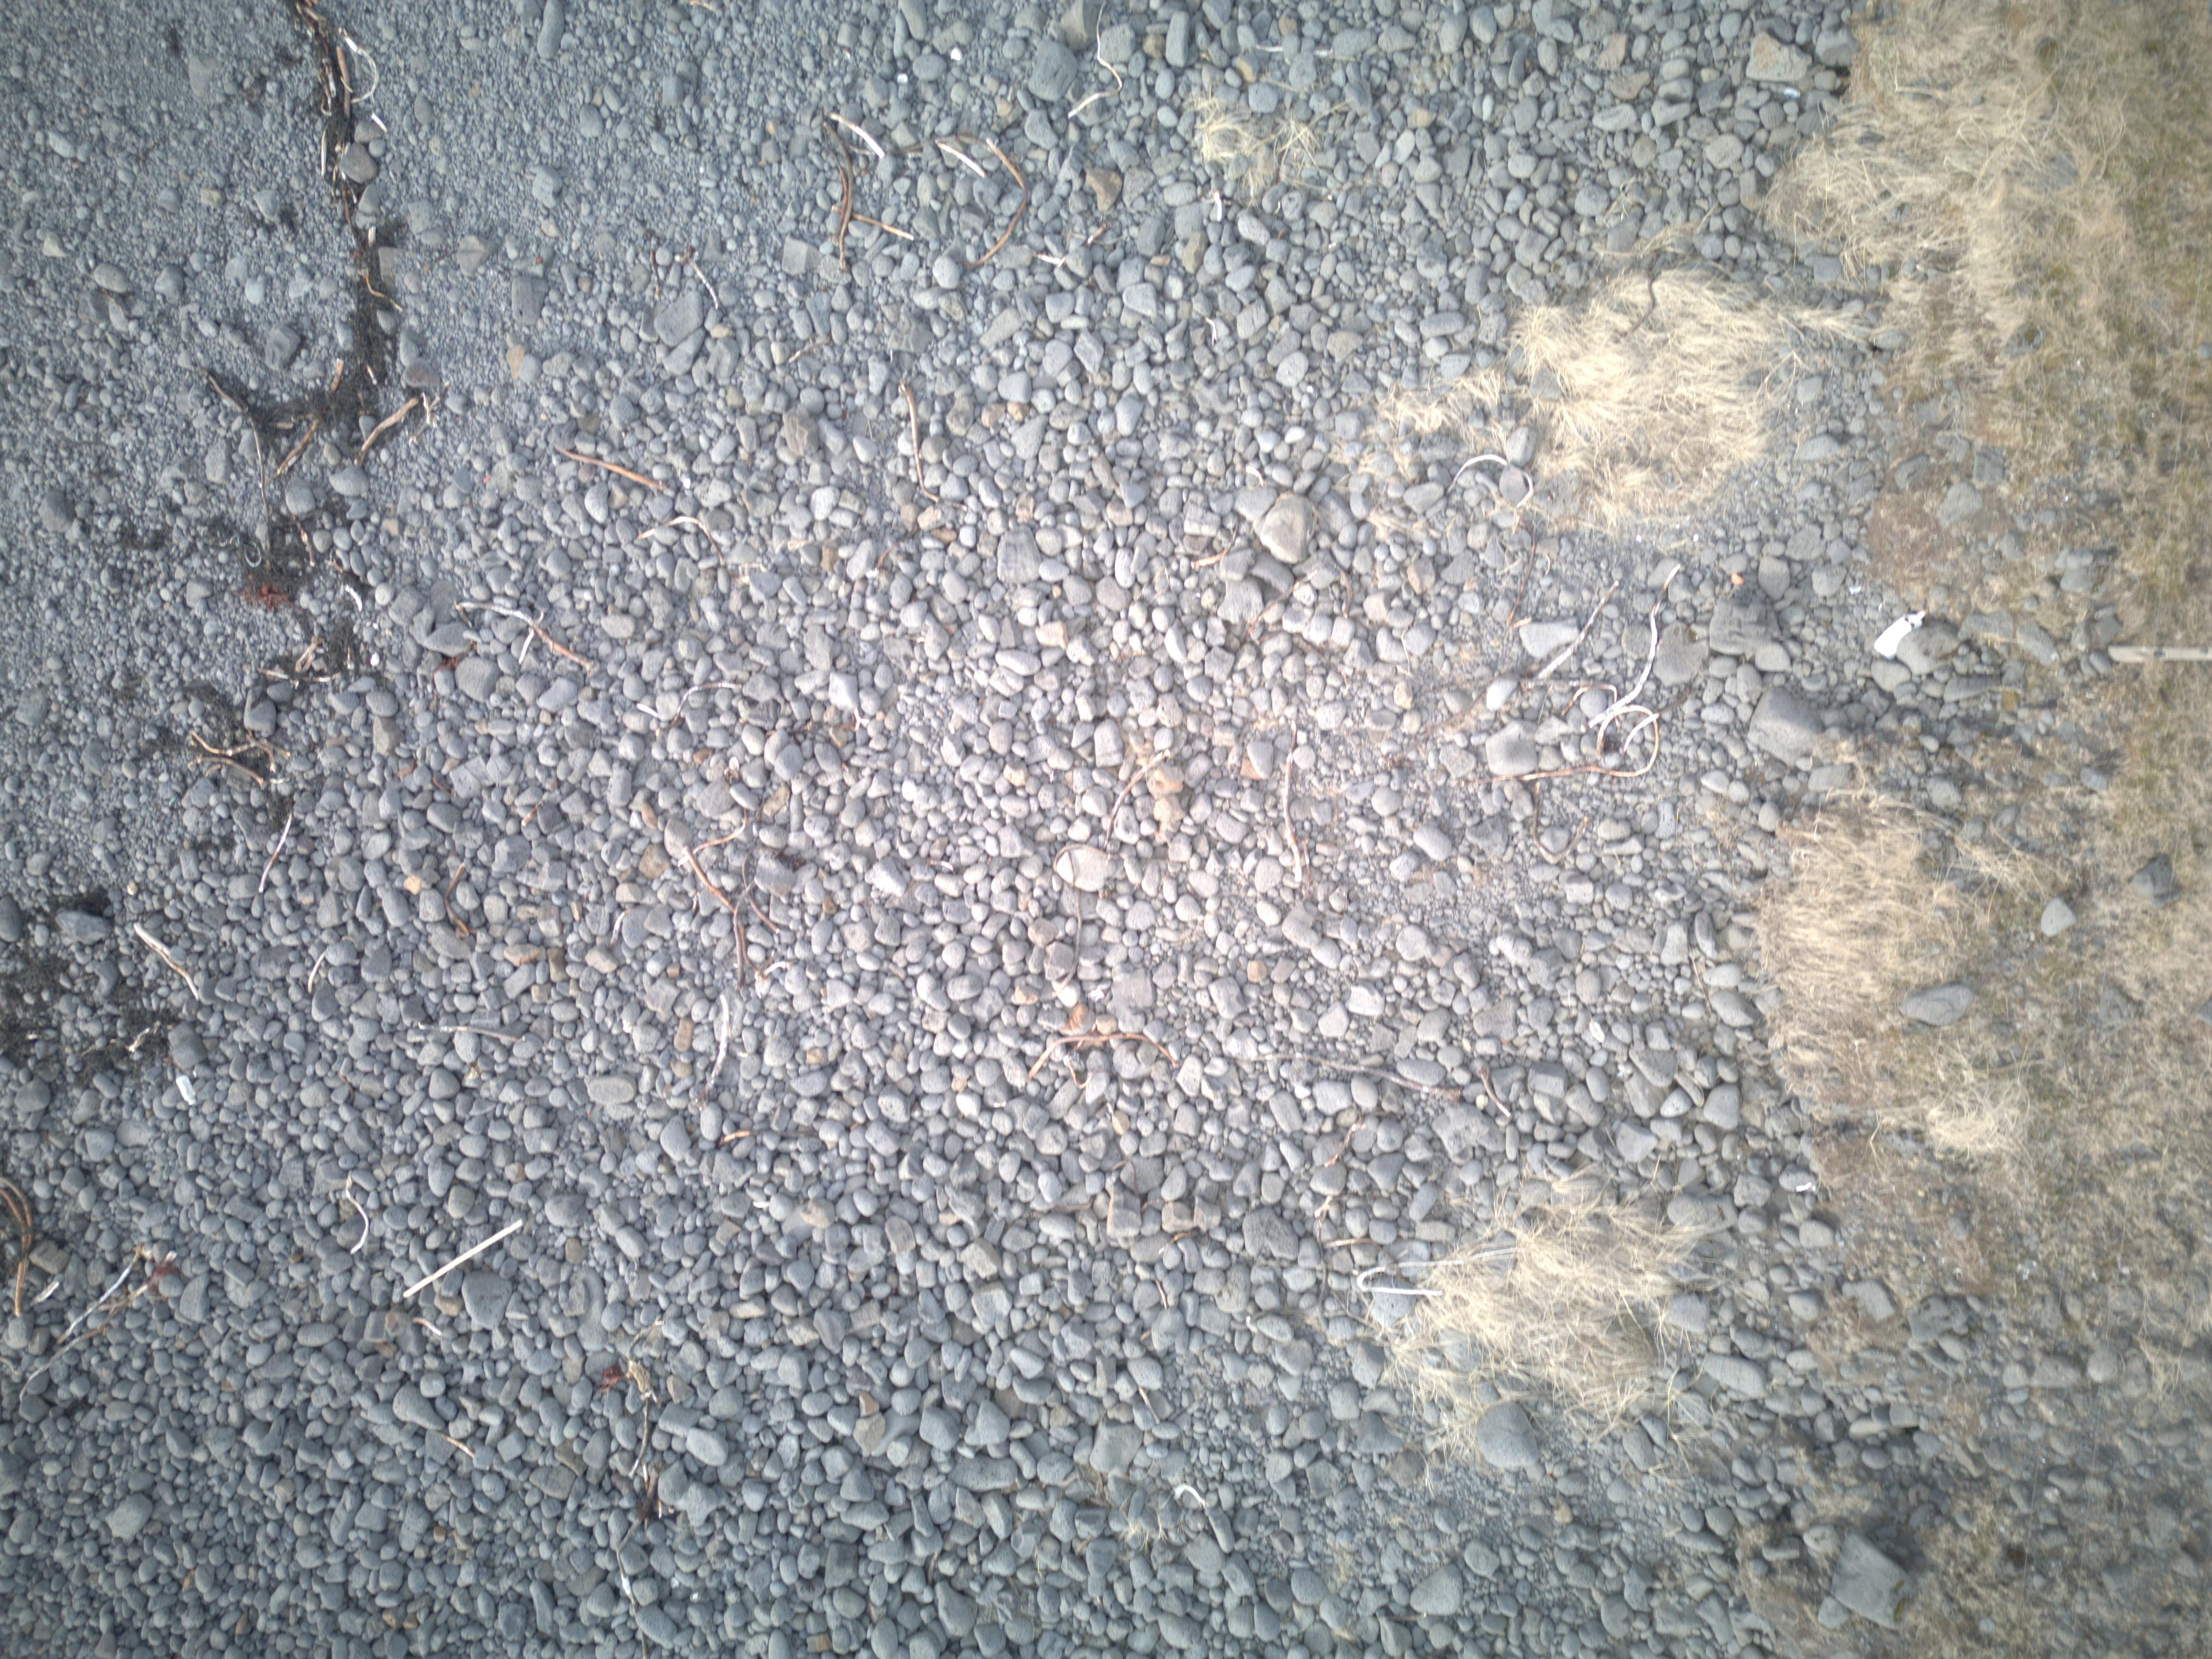trash: (1871, 613, 1923, 660), (172, 1072, 199, 1107)
